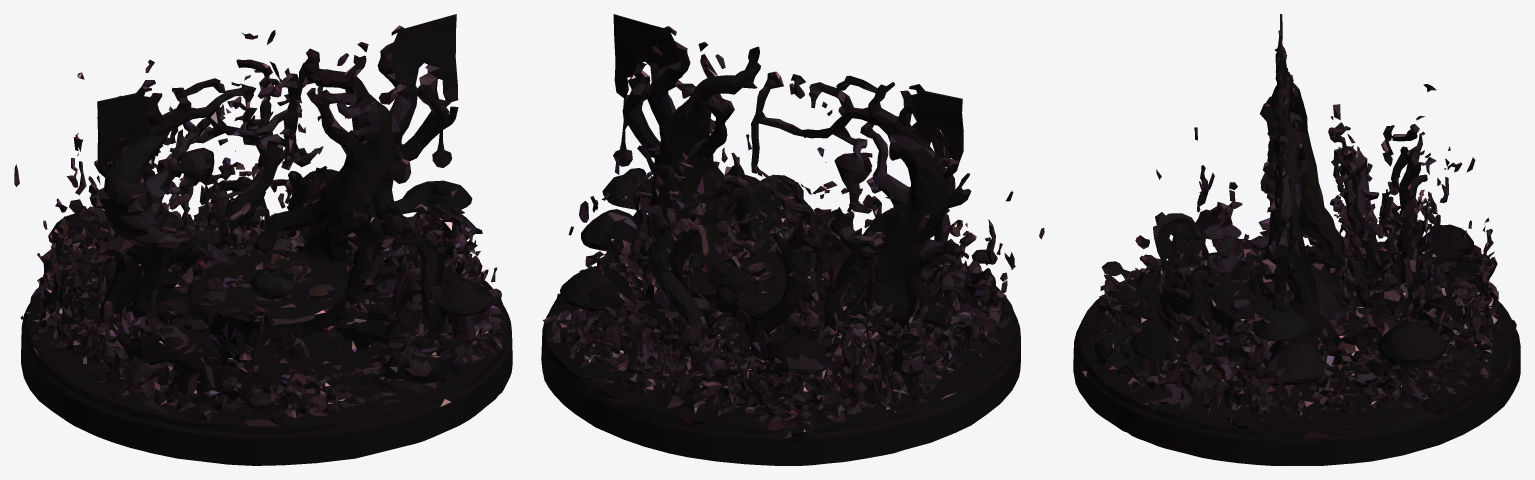
Rendered from mesa-cha-05.glb.
The picture shows the model from 3 angles, left to right: view 1: azimuth 30°, elevation 25°; view 2: azimuth 150°, elevation 25°; view 3: azimuth 270°, elevation 25°; orthographic projection. The views are drawn at different scales.
Visible parts, largest first — view 1: SM_Mesa_Cha_05; view 2: SM_Mesa_Cha_05; view 3: SM_Mesa_Cha_05.
Part boxes in pixels (box(x1,y1,x2,y2)): SM_Mesa_Cha_05: box(14, 14, 512, 465); SM_Mesa_Cha_05: box(541, 14, 1044, 465); SM_Mesa_Cha_05: box(1073, 14, 1520, 465).
Bounding box in the file's own units: 5.68 × 4.01 × 5.7.
1 material, 1 textured.
